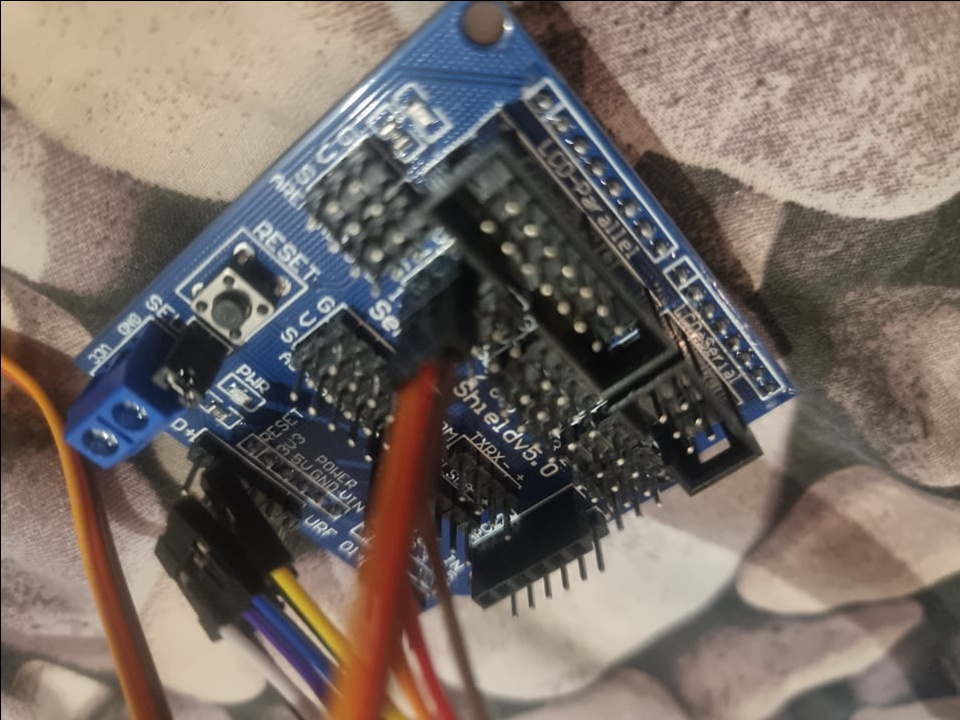5V EXPANSION: (67, 4, 796, 614)
